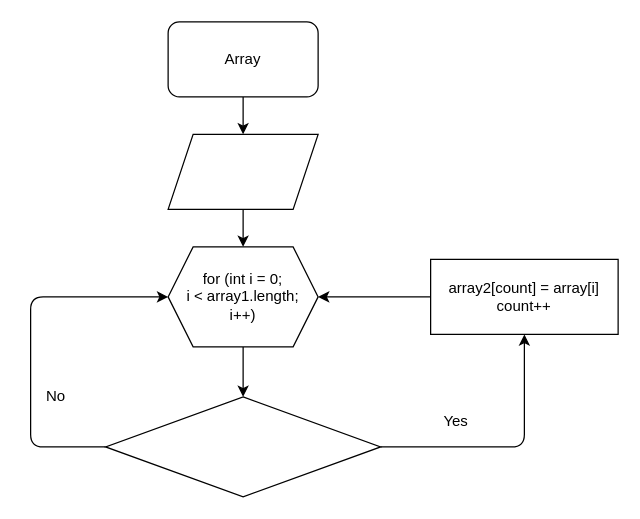
Some shapes in this 640 by 519 pixel diagram are drawn without their labels. The box of each missing label's shape, as (x1, y1, x2, y2) in pixels:
if (array1[i].length <= 3): (104, 396, 381, 497)
string[] array1 srting[] array2 int count = 0: (167, 133, 318, 209)
